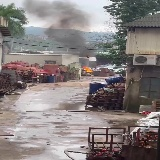fire: (83, 67, 94, 72)
